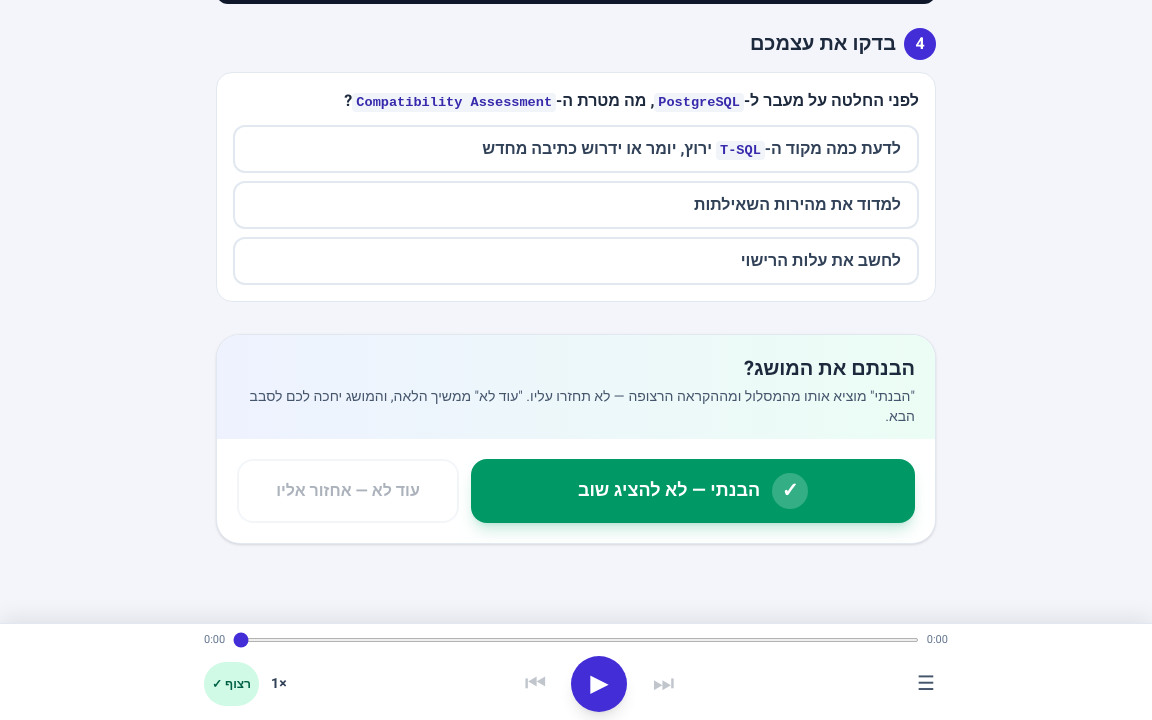
learning path › celebrates when the last concept to learn is marked understood
The width and height of the screenshot is (1152, 720).
(page scrolled)
Click the button "✓ הבנתי — לא להציג שוב": (693, 491) [471, 459, 915, 523]
(page scrolled)
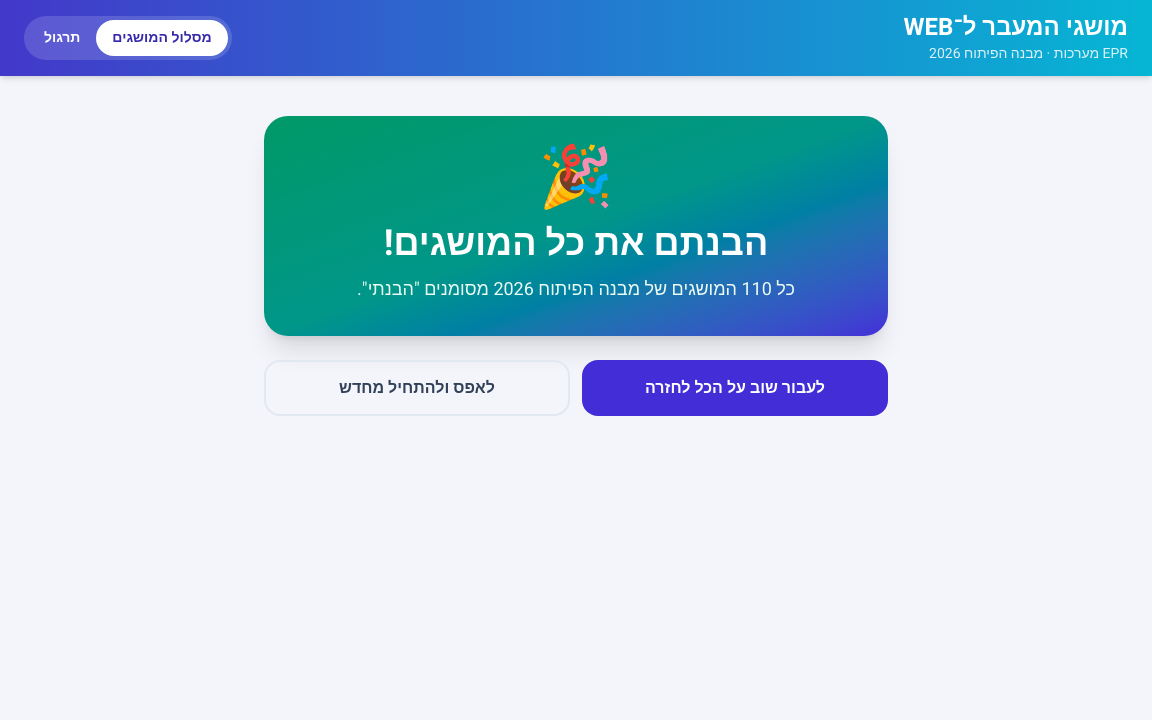
Check: the heading "הבנתם את כל המושגים!" is shown, box [384, 217, 768, 270]
